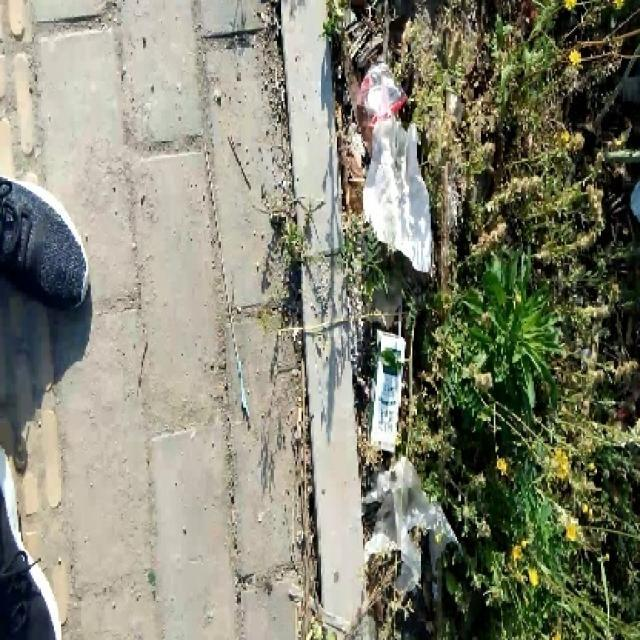Metal: (367, 325, 409, 460)
Trash: (365, 118, 435, 272)
